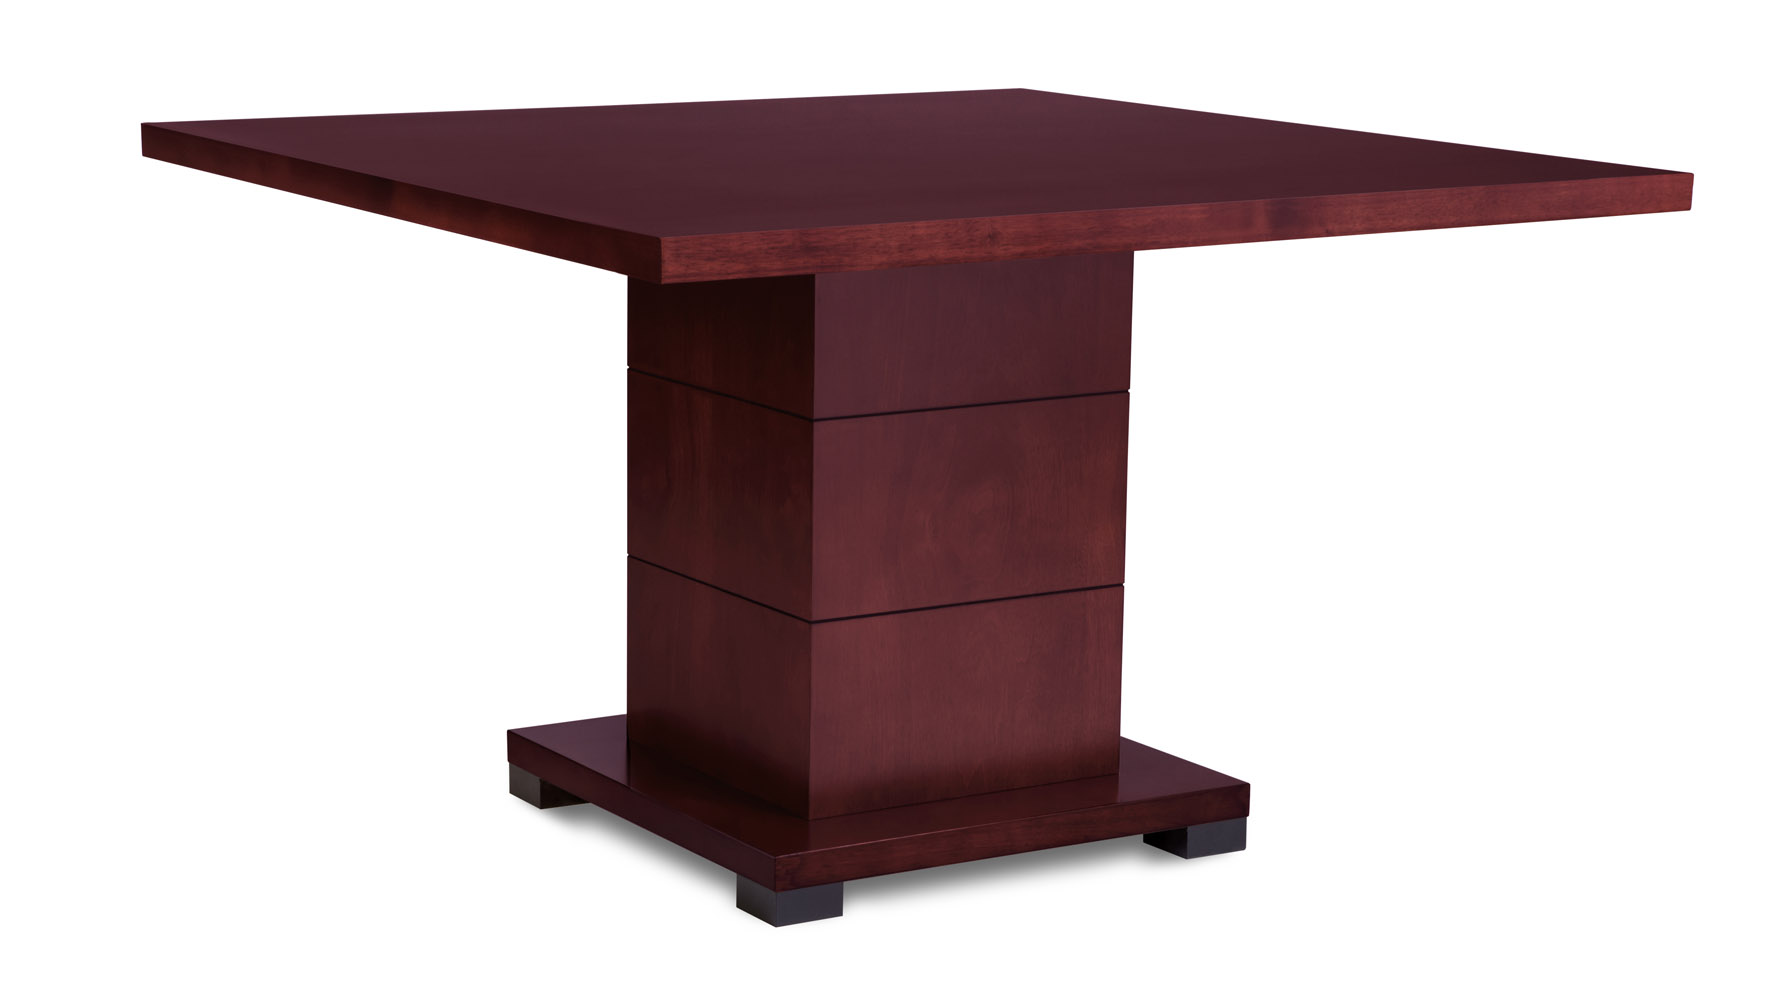conference_table: (140, 90, 1694, 928)
